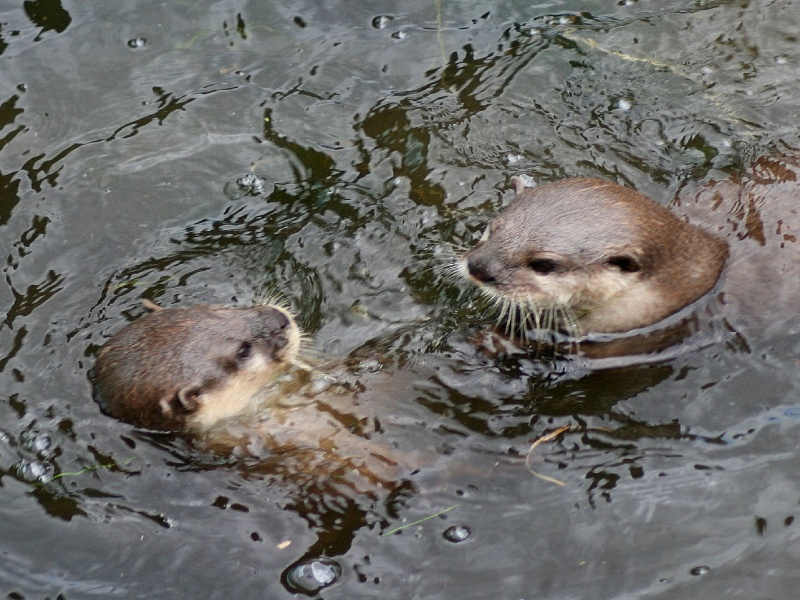minkish: (442, 166, 737, 344), (81, 280, 344, 441)
